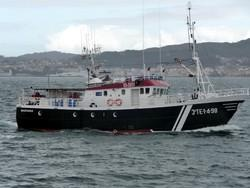otherboat: (10, 2, 247, 134)
